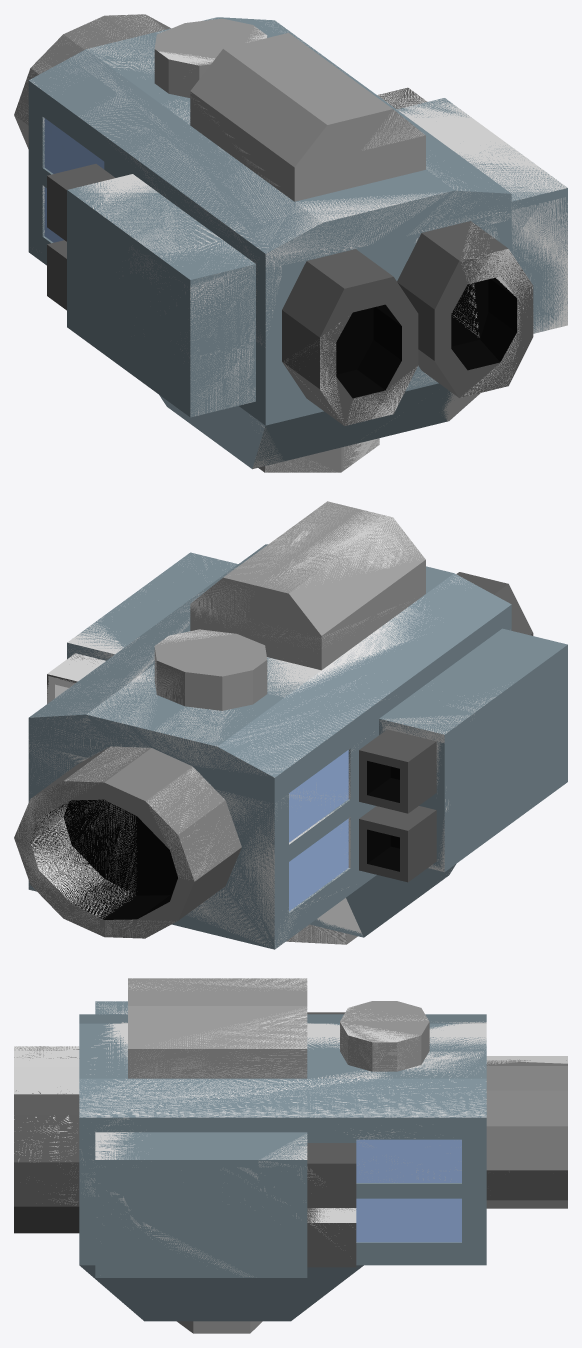
Rendered from Ship.fbx.
3 renders of one model, top to bottom at view 1: azimuth 30°, elevation 25°; view 2: azimuth 150°, elevation 25°; view 3: azimuth 270°, elevation 25°, orthographic. The views are drawn at different scales.
Visible parts, largest first — view 1: Floor4, Col, Floor3, Thruster.L, Floor2, Thruster.R, TowerRoof, Floor1, TurretRoof, Cannon, SideBlasters.L, TopGlass (+1 smaller); view 2: Floor4, Col, Cannon, Floor3, Floor2, TowerRoof, SideBlasters.L, TurretRoof, Floor1, BottomGlass, TopGlass, Thruster.L; view 3: Floor4, Col, Floor3, Floor2, TowerRoof, Cannon, Floor1, Thruster.R, SideBlasters.R, TurretRoof, BottomGlass.001, TopGlass.001.
Part boxes in pixels (x1,y1,x2,y2): Floor4: [28, 17, 567, 288]; Col: [16, 14, 567, 472]; Floor3: [28, 106, 567, 357]; Thruster.L: [282, 249, 418, 425]; Floor2: [28, 175, 567, 425]; Thruster.R: [397, 221, 533, 397]; TowerRoof: [190, 32, 425, 167]; Floor1: [159, 383, 452, 472]; TurretRoof: [154, 18, 265, 97]; Cannon: [14, 14, 170, 148]; SideBlasters.L: [47, 164, 115, 310]; TopGlass: [44, 118, 104, 173]; Floor4: [28, 544, 567, 803]; Col: [14, 502, 507, 948]; Cannon: [14, 746, 241, 938]; Floor3: [28, 651, 567, 871]; Floor2: [28, 722, 567, 949]; TowerRoof: [193, 501, 425, 635]; SideBlasters.L: [359, 729, 436, 882]; TurretRoof: [154, 629, 267, 710]; Floor1: [286, 864, 455, 944]; BottomGlass: [289, 818, 348, 911]; TopGlass: [289, 750, 348, 842]; Thruster.L: [456, 572, 533, 635]; Floor4: [79, 1001, 486, 1167]; Col: [14, 978, 567, 1276]; Floor3: [79, 1139, 486, 1226]; Floor2: [79, 1198, 486, 1277]; TowerRoof: [128, 978, 307, 1048]; Cannon: [486, 1059, 567, 1208]; Floor1: [79, 1265, 363, 1333]; Thruster.R: [14, 1094, 79, 1233]; SideBlasters.R: [307, 1143, 356, 1267]; TurretRoof: [340, 1001, 429, 1071]; BottomGlass.001: [356, 1198, 461, 1242]; TopGlass.001: [356, 1139, 461, 1182].
Size of the model in its own units: 2300 by 2150 by 3400.
